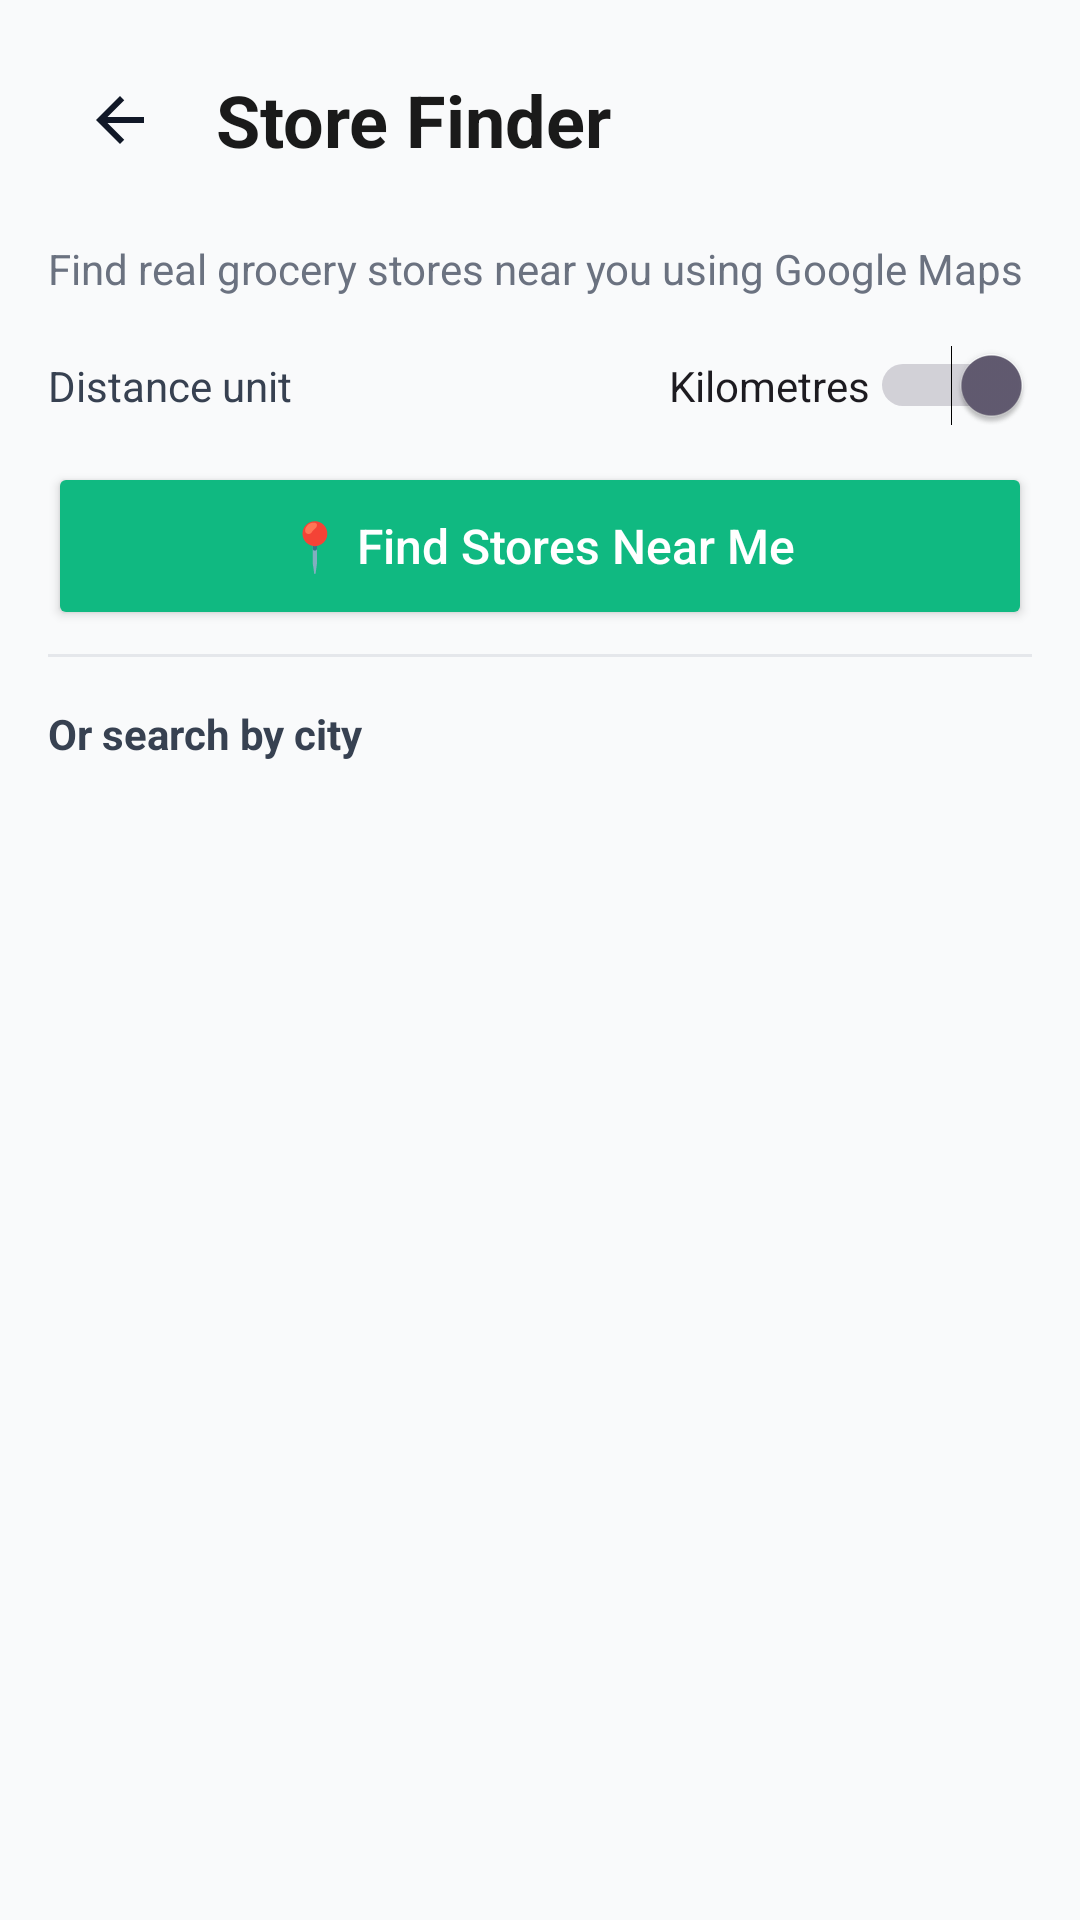

Icons on this 1080×1920 Android screen, each with the point to tap as (x=x, y=y):
arrow back: (x=120, y=120)
